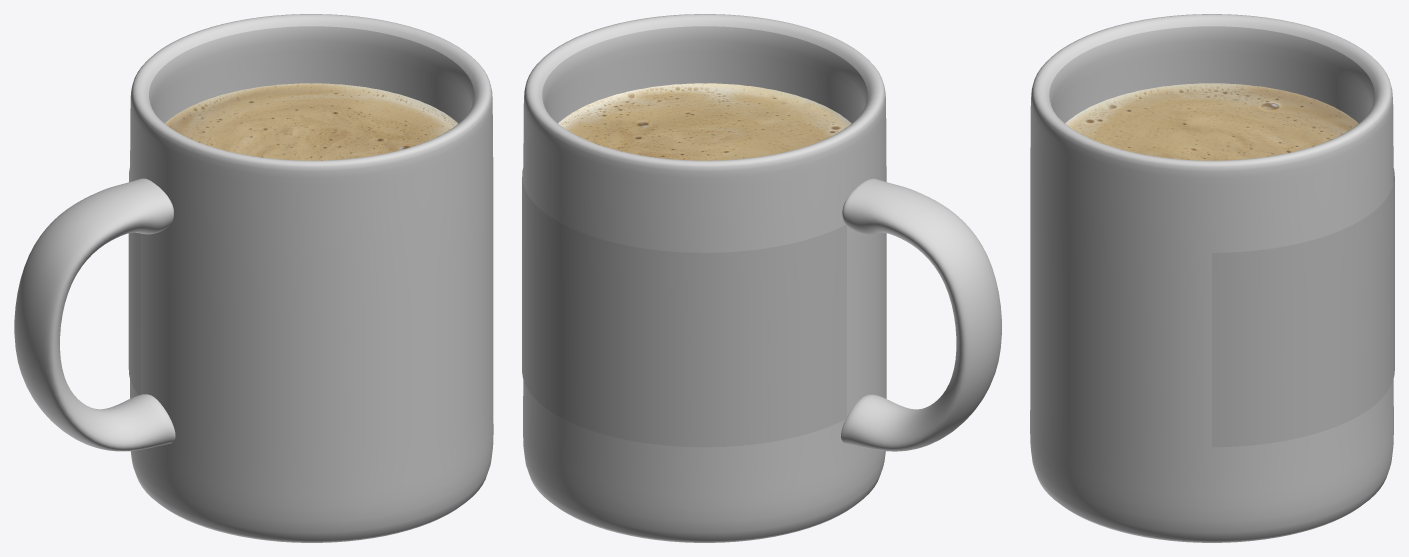
File: Mug_Of_Coffee.fbx
3 views of the same model, side by side, from view 1: azimuth 30°, elevation 25°; view 2: azimuth 150°, elevation 25°; view 3: azimuth 270°, elevation 25° (orthographic).
Parts seen in each view (by area): view 1: Coffee_Mug, Coffee_Liquid, Unity_Logo; view 2: Coffee_Mug, Unity_Logo, Coffee_Liquid; view 3: Coffee_Mug, Unity_Logo, Coffee_Liquid.
Part boxes in pixels (<box>): Coffee_Mug: <box>14,14,493,542</box>; Coffee_Liquid: <box>165,83,458,160</box>; Unity_Logo: <box>128,168,140,395</box>; Coffee_Mug: <box>523,14,1001,542</box>; Unity_Logo: <box>522,168,846,447</box>; Coffee_Liquid: <box>558,83,851,160</box>; Coffee_Mug: <box>1030,14,1393,542</box>; Unity_Logo: <box>1212,168,1394,447</box>; Coffee_Liquid: <box>1065,83,1358,160</box>.
Bounding box in the file's own units: 10.44 × 8.61 × 7.42.
